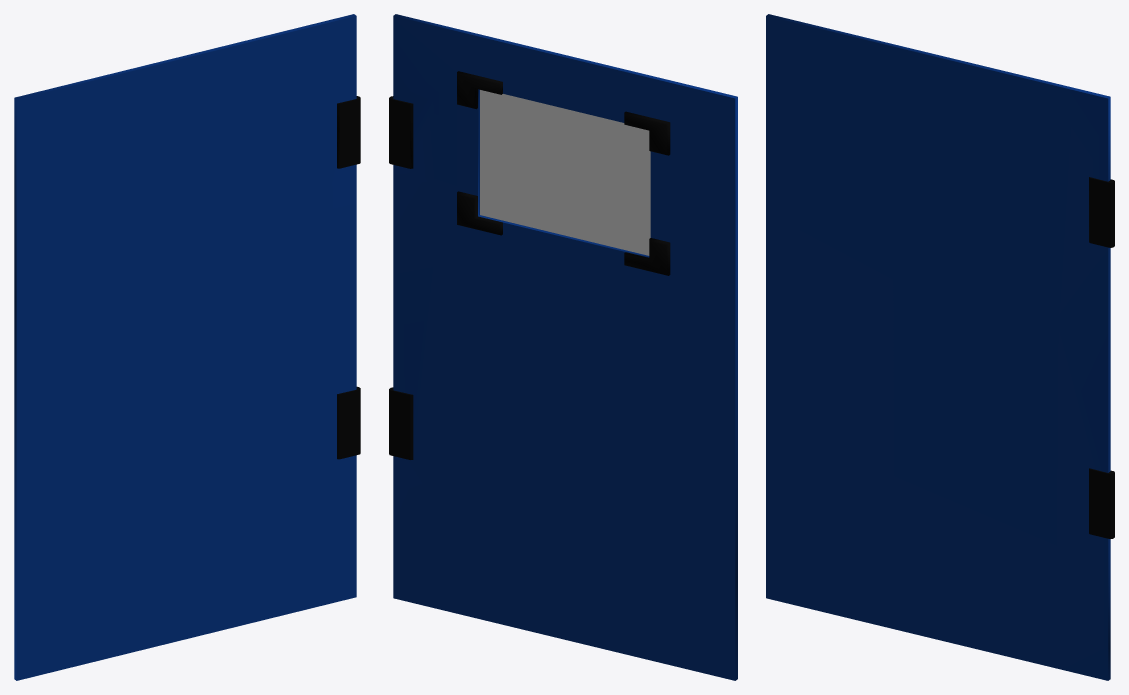
Rendered from Hea_Player_Door.fbx.
3 renders of one model, left to right at view 1: azimuth 30°, elevation 25°; view 2: azimuth 150°, elevation 25°; view 3: azimuth 330°, elevation 25°, orthographic.
Parts seen in each view (by area): view 1: Player_Office_Heaven_Door; view 2: Player_Office_Heaven_Door; view 3: Player_Office_Heaven_Door.
Boxes of the visible parts, bbox=[...] form: Player_Office_Heaven_Door: bbox=[14, 14, 360, 680]; Player_Office_Heaven_Door: bbox=[389, 14, 737, 680]; Player_Office_Heaven_Door: bbox=[766, 14, 1114, 680].
Size of the model in its own units: 125 by 200 by 3.48.
